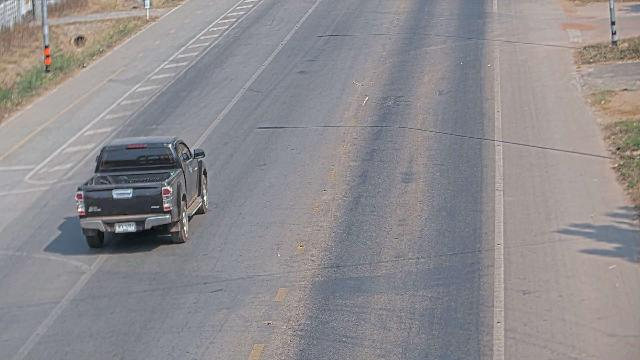pickup-truck: (74, 135, 209, 248)
